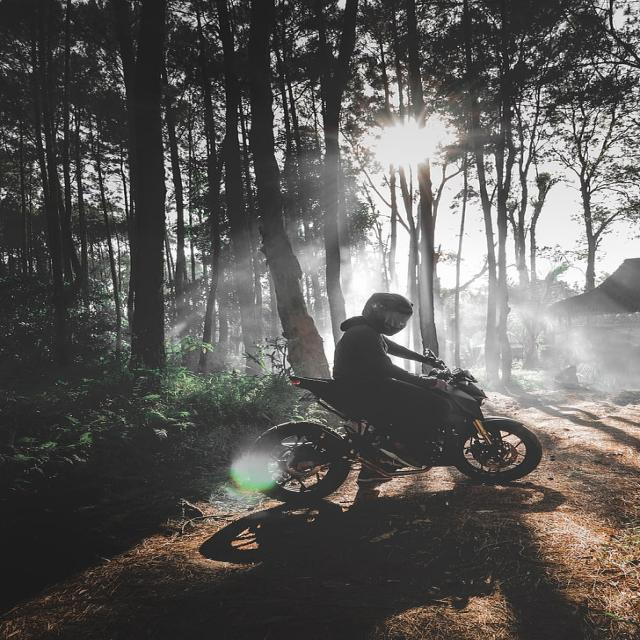Bike: (248, 374, 546, 506)
